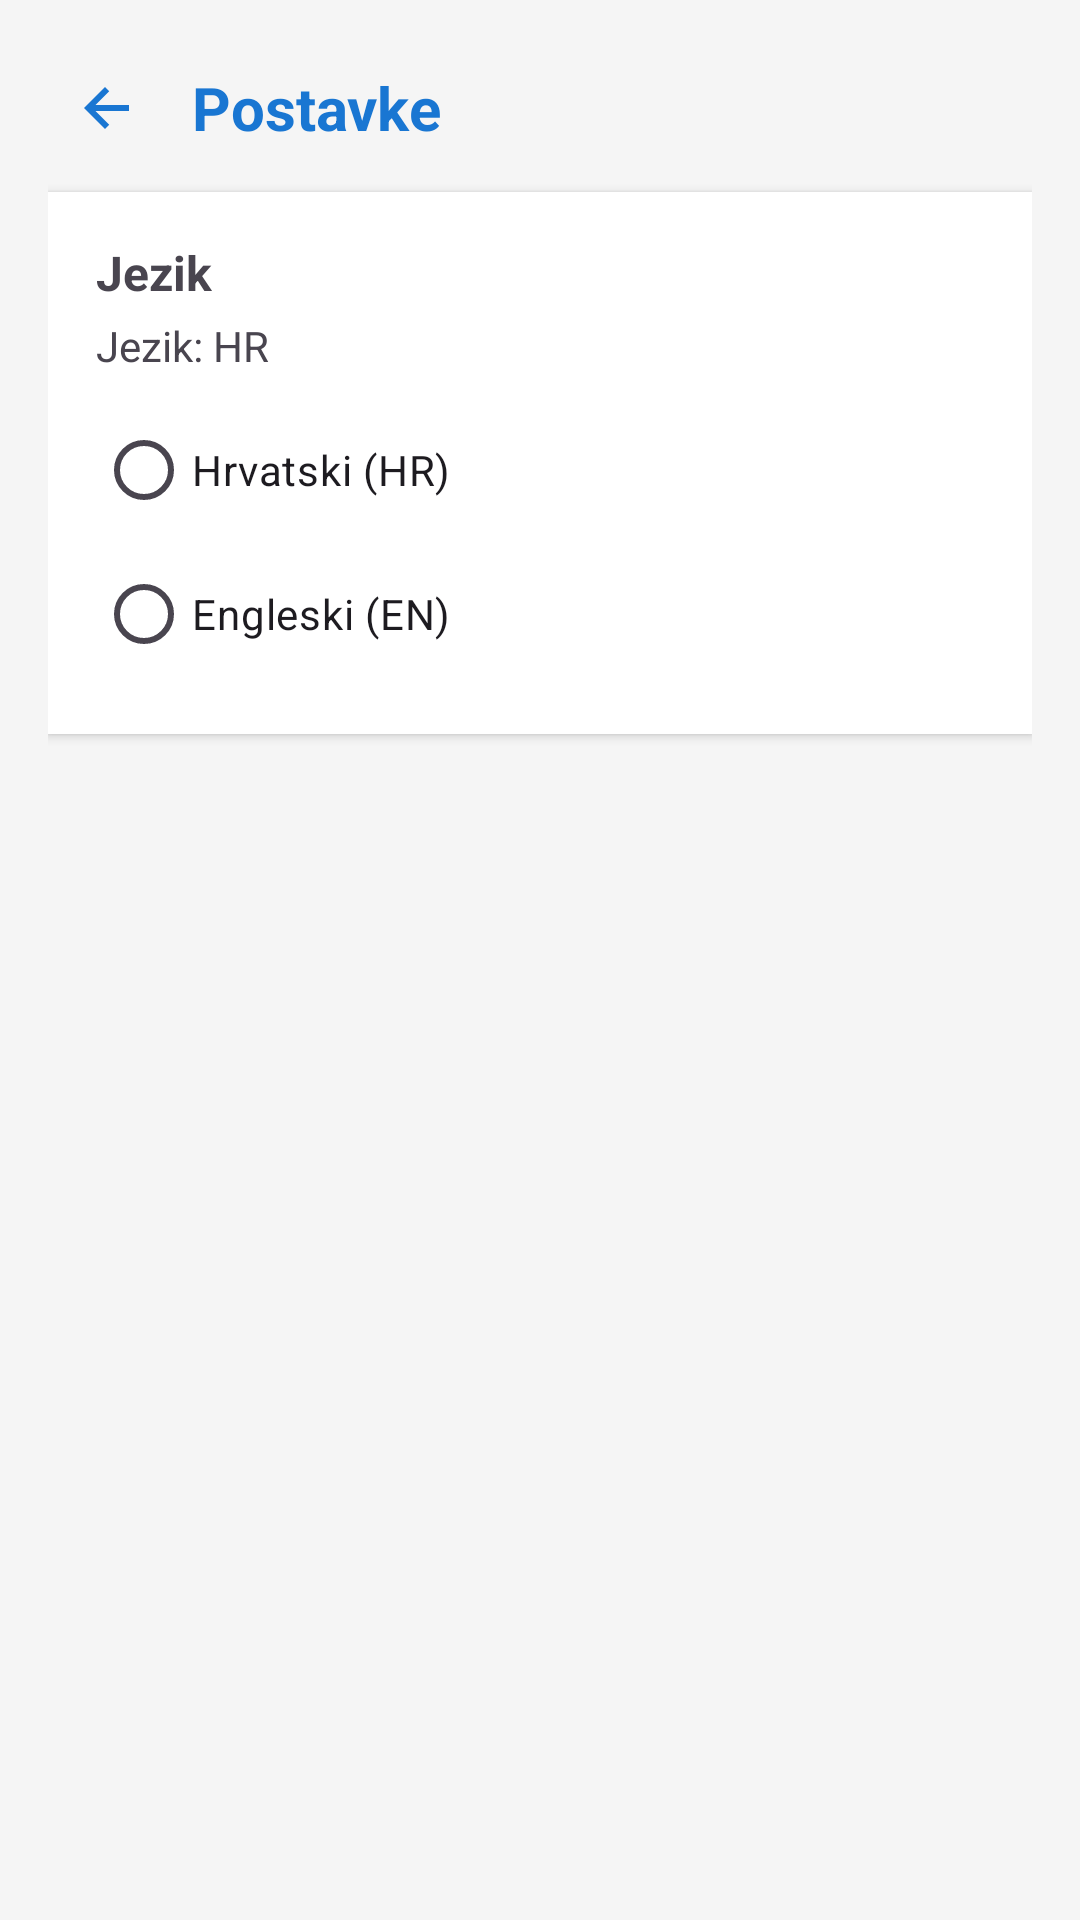

Where to tap for icons on this 1080×1920 app screen, as point (x, y):
Nazad: point (106, 108)
